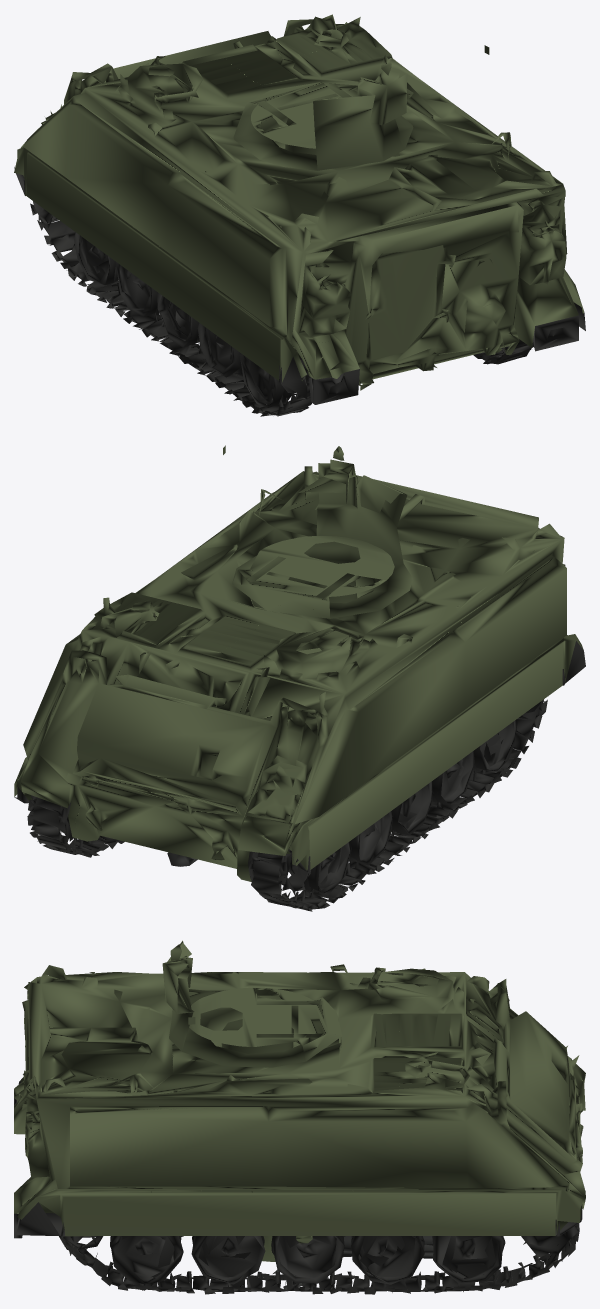
3 renders of one model, top to bottom at view 1: azimuth 30°, elevation 25°; view 2: azimuth 150°, elevation 25°; view 3: azimuth 270°, elevation 25°, orthographic. The views are drawn at different scales.
Parts seen in each view (by area): view 1: body|Scene_-_Root#camo, body|Scene_-_Root#track; view 2: body|Scene_-_Root#camo, body|Scene_-_Root#track; view 3: body|Scene_-_Root#camo, body|Scene_-_Root#track.
Boxes of the visible parts, x1,y1,x2,y2 form: body|Scene_-_Root#camo: (14, 14, 584, 390); body|Scene_-_Root#track: (14, 167, 585, 416); body|Scene_-_Root#camo: (14, 445, 583, 881); body|Scene_-_Root#track: (14, 641, 585, 911); body|Scene_-_Root#camo: (14, 940, 585, 1236); body|Scene_-_Root#track: (14, 1081, 582, 1294).
Size of the model in its own units: 2.83 by 3.14 by 4.86.
